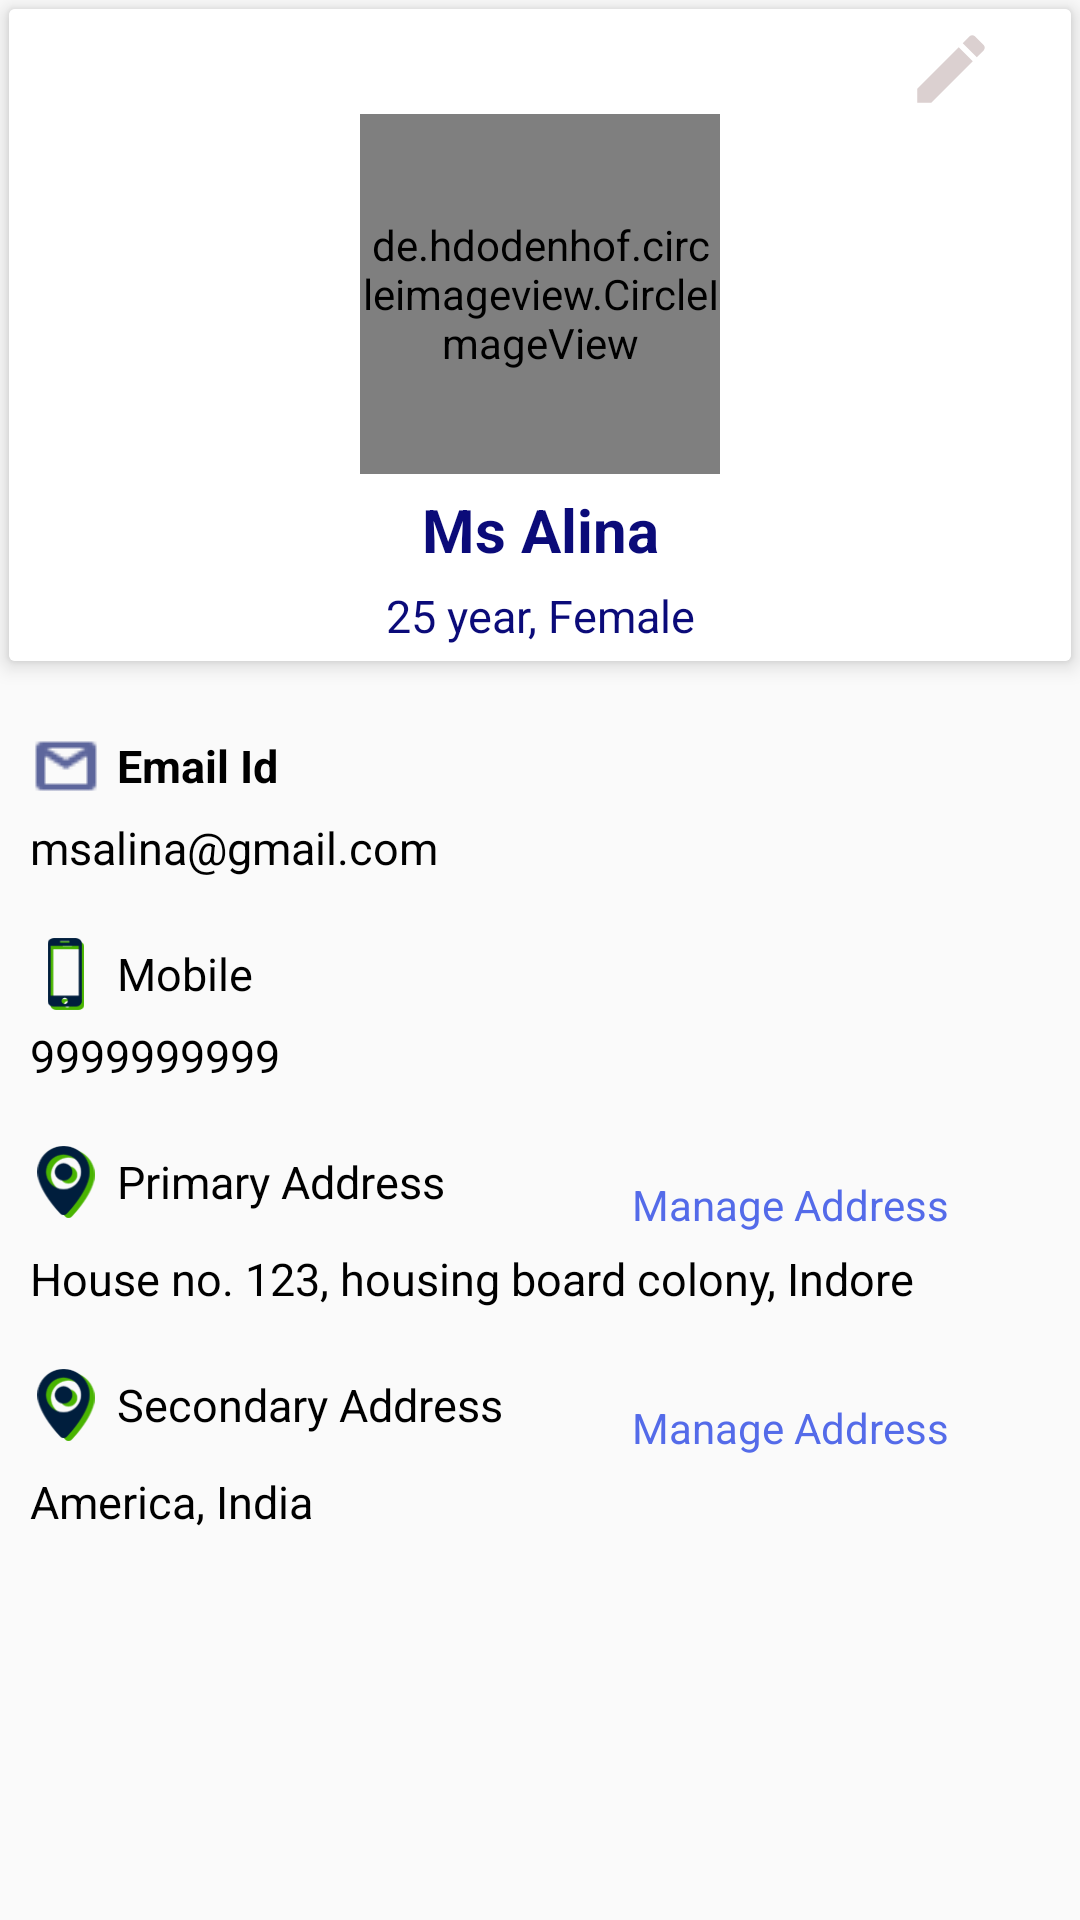

Locate icon controls on the screen. Image size 1080 x 1920, boxes as (left=x1, top=y1, right=x2, bottom=y2).
edit: (left=917, top=35, right=985, bottom=103)
locationicon: (left=37, top=1146, right=95, bottom=1218), (left=37, top=1369, right=95, bottom=1441)
